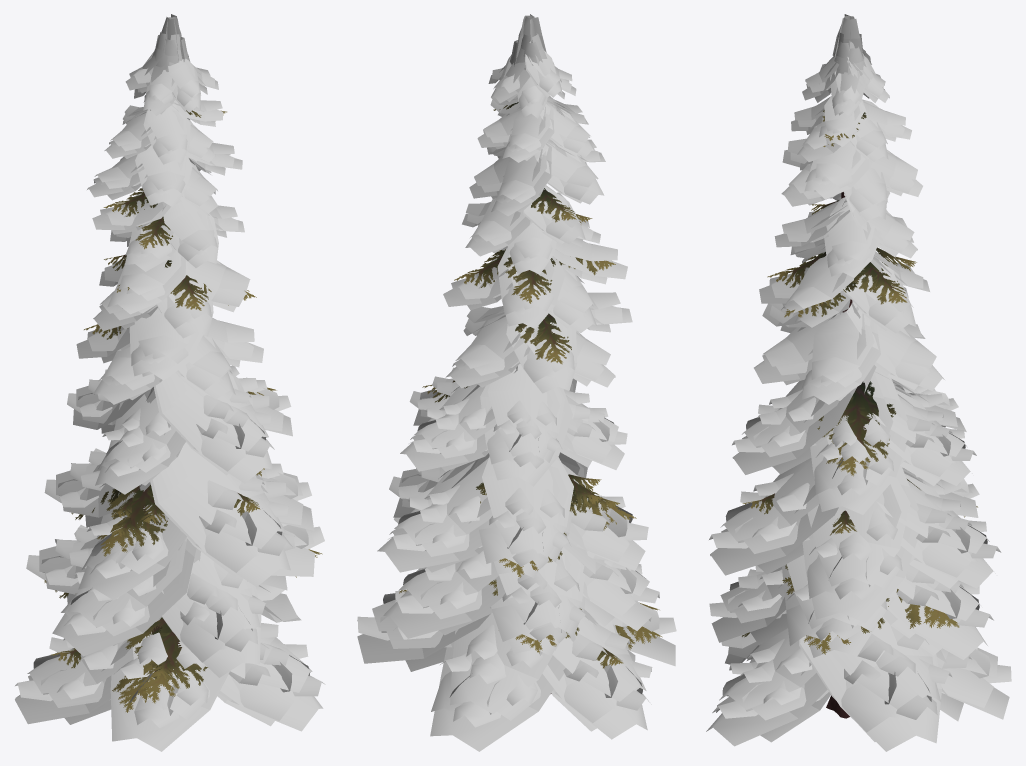
The model's file is Fir_XL_Blue.fbx.
3 views of the same model, side by side, from view 1: azimuth 30°, elevation 25°; view 2: azimuth 150°, elevation 25°; view 3: azimuth 270°, elevation 25° (orthographic). The views are drawn at different scales.
Parts seen in each view (by area): view 1: polySurface2245; view 2: polySurface2245; view 3: polySurface2245.
Part boxes in pixels (x1,y1,x2,y2): polySurface2245: (15, 14, 325, 751); polySurface2245: (357, 14, 676, 751); polySurface2245: (706, 14, 1011, 751).
Size of the model in its own units: 611 by 1407 by 559.
